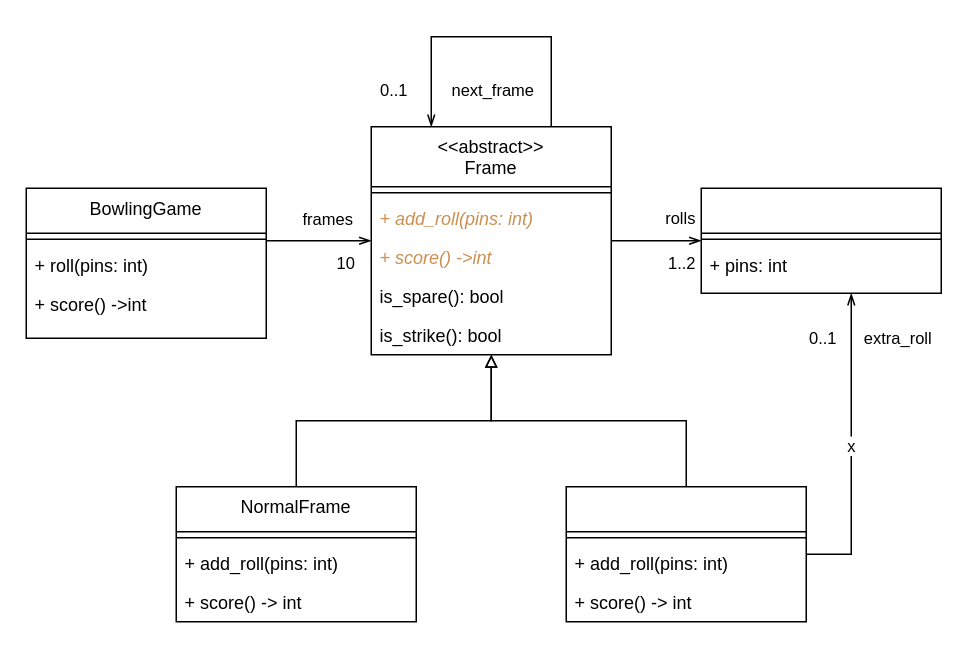
This 968x653 diagram has some shape labels left out. The box of each missing label's shape, as (x1, y1, x2, y2) in pixels:
Roll: (700, 187, 941, 293)
TenthFrame: (565, 485, 806, 622)
